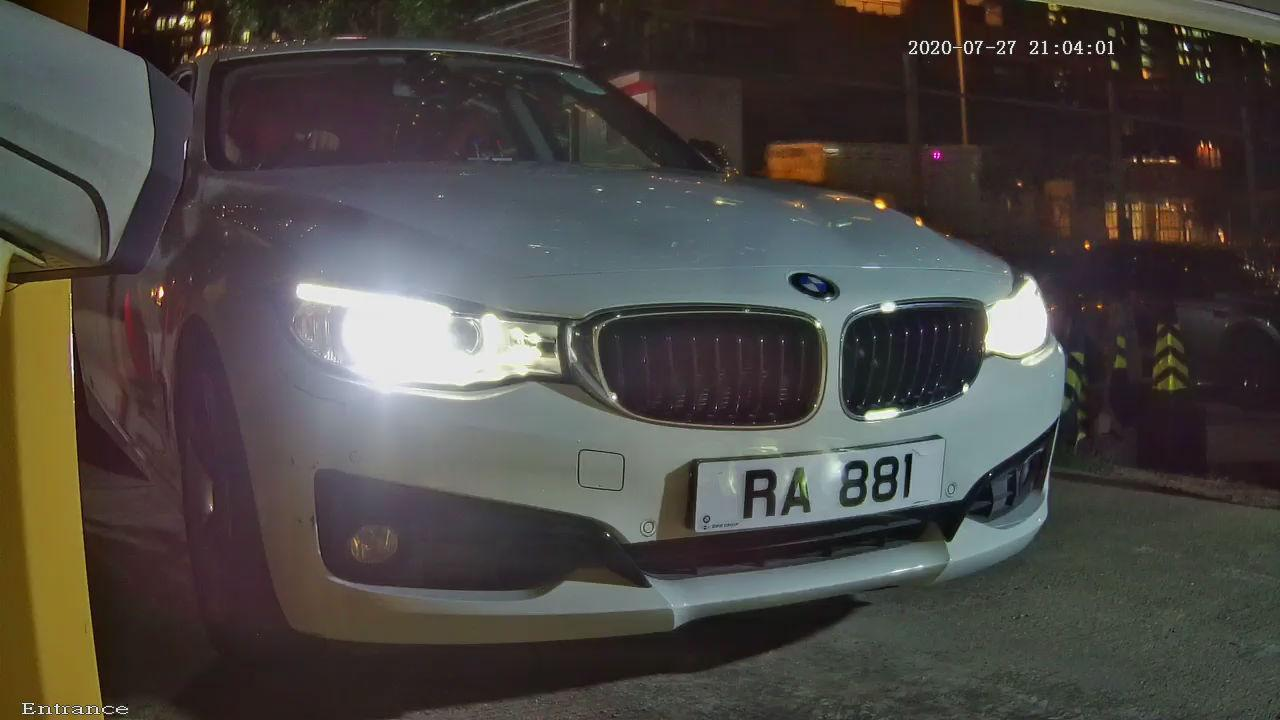privatecar: (109, 23, 1098, 672)
